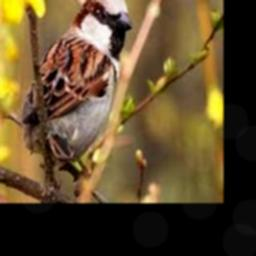Sparrow: (22, 0, 134, 178)
